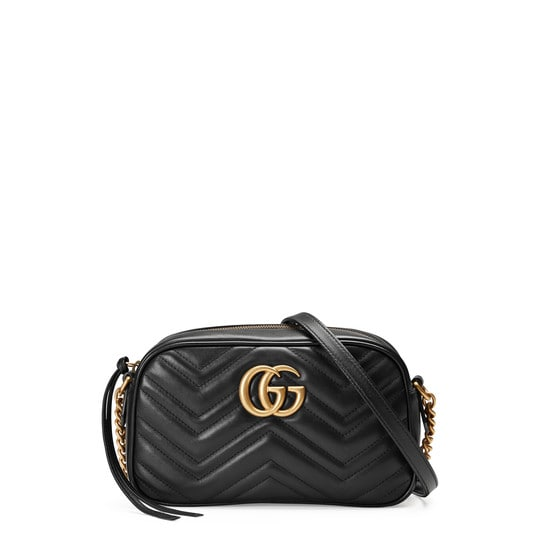Gucci: (118, 290, 434, 510), (233, 353, 322, 433)
